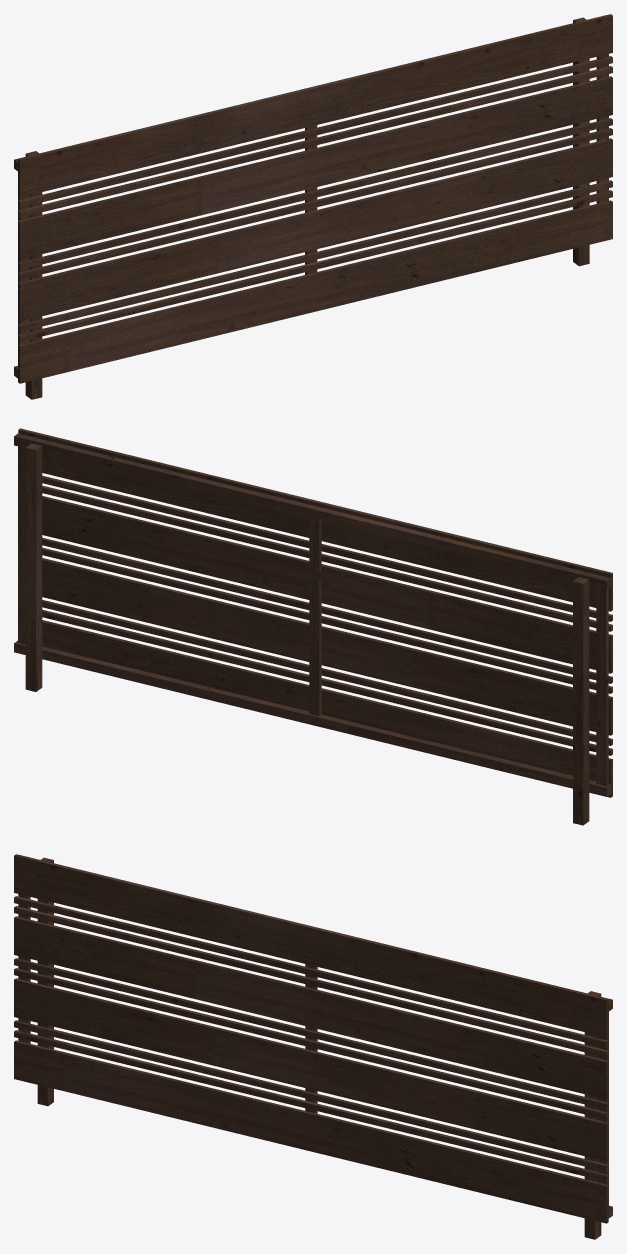
File: EAF-plus-120-18_w1999-h800_darkpine.fbx
3 renders of one model, top to bottom at view 1: azimuth 30°, elevation 25°; view 2: azimuth 150°, elevation 25°; view 3: azimuth 330°, elevation 25°, orthographic.
Parts seen in each view (by area): view 1: EAF-plus-120-18_w1999-h800_chacoalgray.002; view 2: EAF-plus-120-18_w1999-h800_chacoalgray.002; view 3: EAF-plus-120-18_w1999-h800_chacoalgray.002.
Boxes of the visible parts, box(x1,y1,x2,y2) form: EAF-plus-120-18_w1999-h800_chacoalgray.002: box(14, 14, 612, 399); EAF-plus-120-18_w1999-h800_chacoalgray.002: box(14, 428, 612, 825); EAF-plus-120-18_w1999-h800_chacoalgray.002: box(14, 854, 612, 1239).
Bounding box in the file's own units: 200 × 80 × 7.
1 material, 1 textured.
